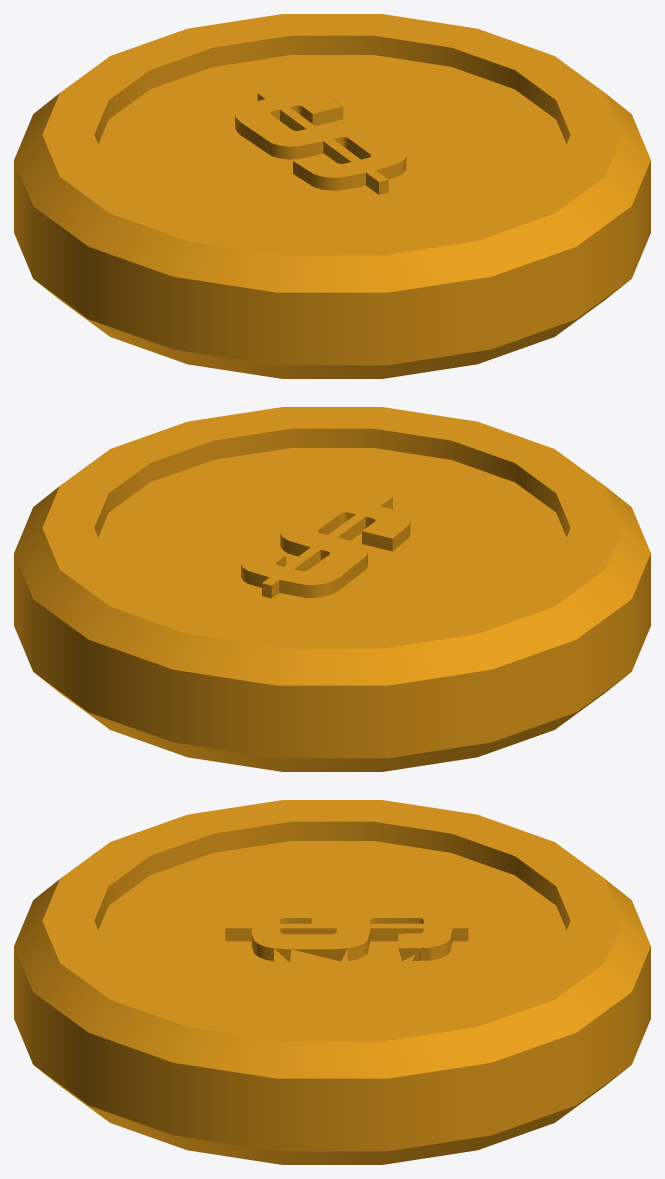
Rendered from coin_new.glb.
3 views of the same model, one above another, from view 1: azimuth 30°, elevation 25°; view 2: azimuth 150°, elevation 25°; view 3: azimuth 270°, elevation 25° (orthographic).
Visible parts, largest first — view 1: Coin_New; view 2: Coin_New; view 3: Coin_New.
Boxes of the visible parts, left/top/right/bottom form: Coin_New: left=14, top=14, right=650, bottom=378; Coin_New: left=14, top=407, right=650, bottom=771; Coin_New: left=14, top=800, right=650, bottom=1164.
Bounding box in the file's own units: 1.97 × 0.4272 × 2.
